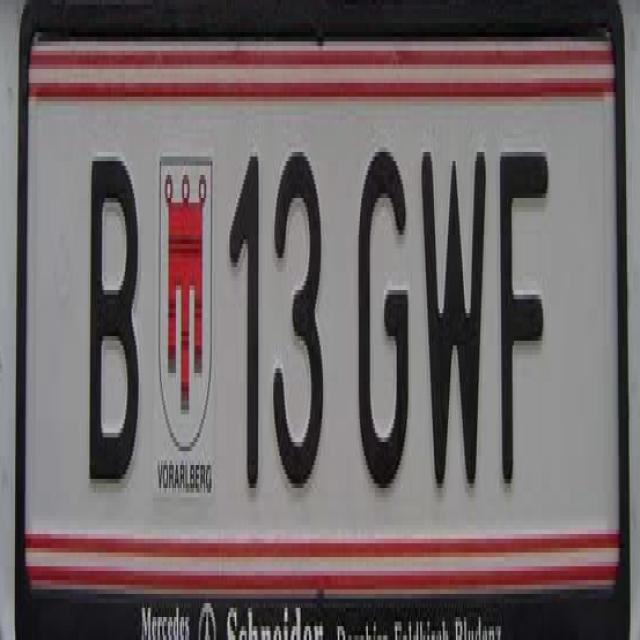Autre: (21, 21, 612, 574)
